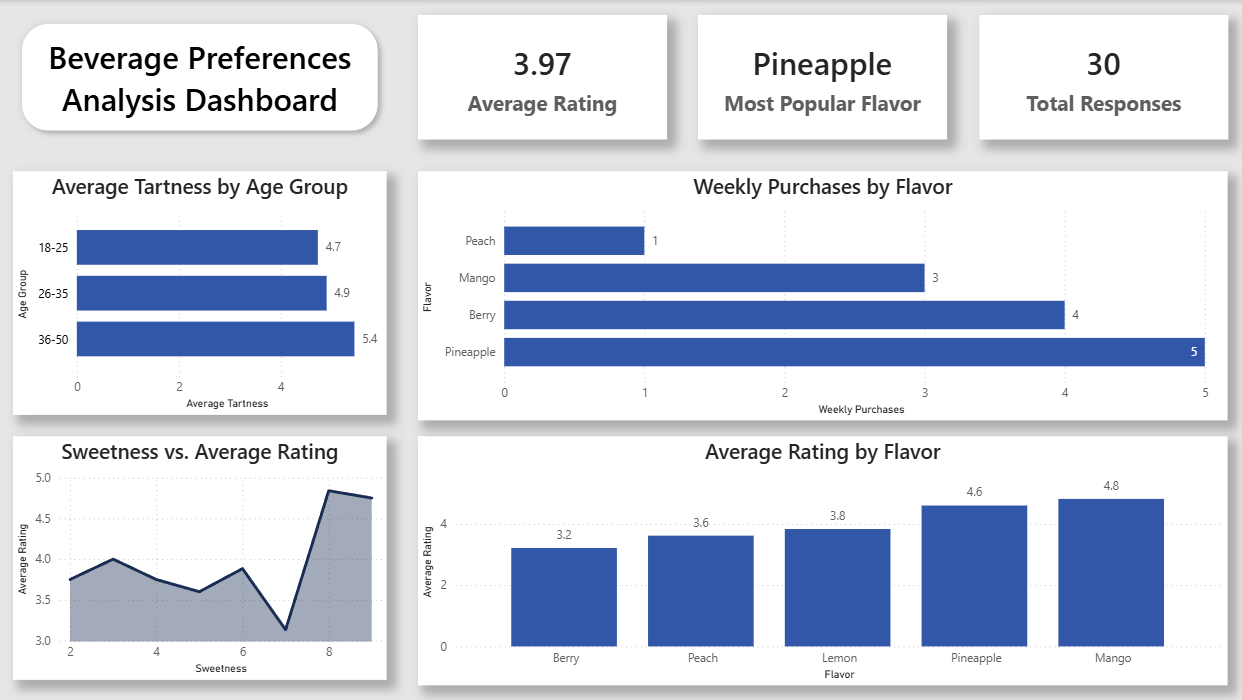

What the dashboard file says about the page in this screenshot:
{"tool":"powerbi","page":{"name":"Page 1","canvas":[1280,720],"ordinal":0},"visuals":[{"type":"barChart","title":"Average Tartness by Age Group","fields":{"Category":["beverage_pref beverage_preferences.age_group"],"Y":["Avg(beverage_pref beverage_preferences.tartness)"]},"box":[16,176,384,250],"z":0},{"type":"clusteredBarChart","title":"Weekly Purchases by Flavor","fields":{"Category":["beverage_pref beverage_preferences.flavor"],"Y":["CountNonNull(beverage_pref beverage_preferences.purchase_frequency)"]},"box":[432,176,832,256],"z":1000},{"type":"lineChart","title":"Sweetness vs. Average Rating","fields":{"Category":["beverage_pref beverage_preferences.sweetness"],"Y":["Avg(beverage_pref beverage_preferences.rating)"]},"box":[16,448,384,250],"z":2000},{"type":"columnChart","title":"Average Rating by Flavor","fields":{"Category":["beverage_pref beverage_preferences.flavor"],"Y":["Avg(beverage_pref beverage_preferences.rating)"]},"box":[432,448,832,256],"z":3000},{"type":"card","fields":{"Values":["CountNonNull(beverage_pref beverage_preferences.purchase_frequency)"]},"box":[1008,16,256,128],"z":4000},{"type":"card","fields":{"Values":["Max(beverage_pref beverage_preferences.flavor)"]},"box":[720,16,256,128],"z":5000},{"type":"card","title":"Average Rating","fields":{"Values":["Avg(beverage_pref beverage_preferences.rating)"]},"box":[432,16,256,128],"z":6000},{"type":"actionButton","box":[0,0,100,40],"z":7000},{"type":"shape","box":[16,16,384,128],"z":8000}]}

Visuals, with their boxes in screenshot pixels (x1, y1, x2, y2), scaled from the page's 1280x720 canvas onto the 1242x700 screenshot:
"Average Tartness by Age Group" barChart: bbox=[16, 171, 388, 414]
"Weekly Purchases by Flavor" clusteredBarChart: bbox=[419, 171, 1226, 420]
"Sweetness vs. Average Rating" lineChart: bbox=[16, 436, 388, 679]
"Average Rating by Flavor" columnChart: bbox=[419, 436, 1226, 684]
card - CountNonNull(beverage_pref beverage_preferences.purchase_frequency): bbox=[978, 16, 1226, 140]
card - Max(beverage_pref beverage_preferences.flavor): bbox=[699, 16, 947, 140]
"Average Rating" card: bbox=[419, 16, 668, 140]
actionButton: bbox=[0, 0, 97, 39]
shape: bbox=[16, 16, 388, 140]
